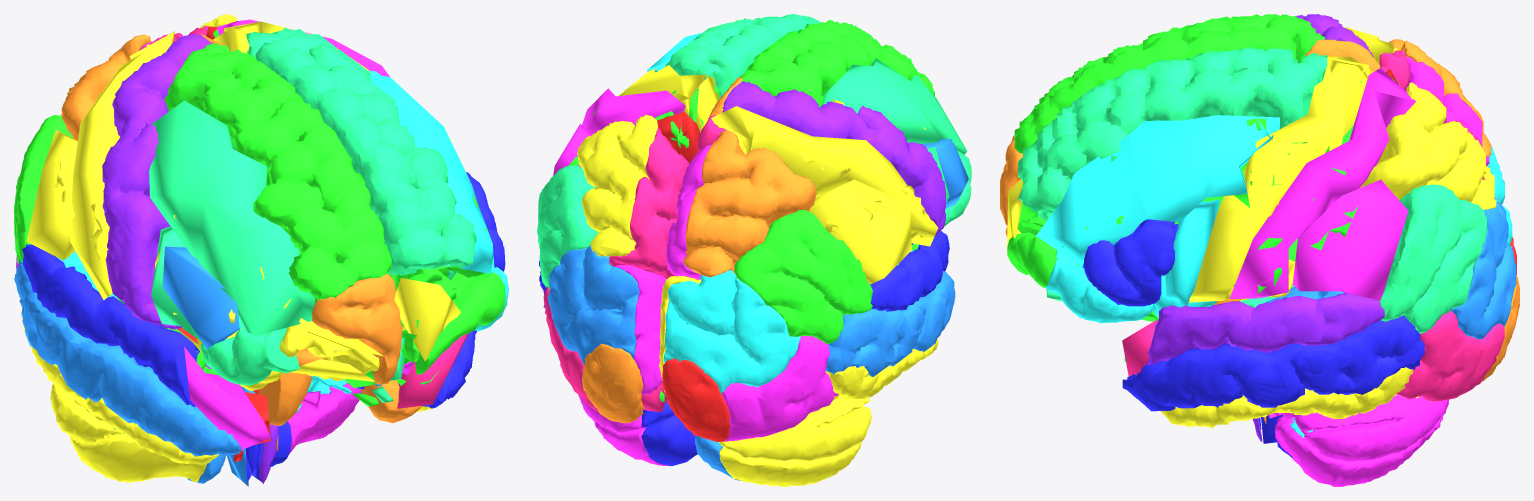
Rendered from gehirn-male-lod.glb.
The picture shows the model from 3 angles, left to right: view 1: azimuth 30°, elevation 25°; view 2: azimuth 150°, elevation 25°; view 3: azimuth 270°, elevation 25°; orthographic projection. The views are drawn at different scales.
Parts seen in each view (by area): view 1: 0:113:Allen_superior_frontal_gyrus_L, 0:261:Allen_superior_frontal_gyrus_R, 0:70:Allen_middle_frontal_gyrus_L, 0:98:Allen_precentral_gyrus_L, 0:71:Allen_middle_temporal_gyrus_L, 0:115:Allen_superior_temporal_gyrus_L, 0:92:Allen_postcentral_gyrus_L, 0:55:Allen_lateral_hemisphere_of_cerebellum_L, 0:106:Allen_rostral_gyrus_L, 0:214:Allen_middle_frontal_gyrus_R, 0:47:Allen_inferior_frontal_gyrus_triangular_part_L, 0:116:Allen_supramarginal_gyrus_L (+22 smaller); view 2: 0:118:Allen_supraparietal_lobule_L, 0:2:Allen_angular_gyrus_L, 0:114:Allen_superior_occipital_gyrus_L, 0:98:Allen_precentral_gyrus_L, 0:55:Allen_lateral_hemisphere_of_cerebellum_L, 0:92:Allen_postcentral_gyrus_L, 0:113:Allen_superior_frontal_gyrus_L, 0:262:Allen_superior_occipital_gyrus_R, 0:266:Allen_supraparietal_lobule_R, 0:71:Allen_middle_temporal_gyrus_L, 0:49:Allen_inferior_occipital_gyrus_L, 0:116:Allen_supramarginal_gyrus_L (+26 smaller); view 3: 0:261:Allen_superior_frontal_gyrus_R, 0:214:Allen_middle_frontal_gyrus_R, 0:215:Allen_middle_temporal_gyrus_R, 0:242:Allen_precentral_gyrus_R, 0:236:Allen_postcentral_gyrus_R, 0:138:Allen_angular_gyrus_R, 0:263:Allen_superior_temporal_gyrus_R, 0:195:Allen_lateral_hemisphere_of_cerebellum_R, 0:113:Allen_superior_frontal_gyrus_L, 0:264:Allen_supramarginal_gyrus_R, 0:266:Allen_supraparietal_lobule_R, 0:187:Allen_inferior_frontal_gyrus_triangular_part_R (+19 smaller).
Boxes of the visible parts, <box> form: 0:113:Allen_superior_frontal_gyrus_L: <box>164,43,391,305</box>; 0:261:Allen_superior_frontal_gyrus_R: <box>246,27,476,280</box>; 0:70:Allen_middle_frontal_gyrus_L: <box>149,100,315,335</box>; 0:98:Allen_precentral_gyrus_L: <box>102,34,212,329</box>; 0:71:Allen_middle_temporal_gyrus_L: <box>14,260,245,457</box>; 0:115:Allen_superior_temporal_gyrus_L: <box>22,244,199,406</box>; 0:92:Allen_postcentral_gyrus_L: <box>70,31,174,299</box>; 0:55:Allen_lateral_hemisphere_of_cerebellum_L: <box>50,383,206,482</box>; 0:106:Allen_rostral_gyrus_L: <box>312,273,402,384</box>; 0:214:Allen_middle_frontal_gyrus_R: <box>368,70,494,273</box>; 0:47:Allen_inferior_frontal_gyrus_triangular_part_L: <box>162,246,240,348</box>; 0:116:Allen_supramarginal_gyrus_L: <box>26,130,77,260</box>; 0:118:Allen_supraparietal_lobule_L: <box>683,130,816,277</box>; 0:2:Allen_angular_gyrus_L: <box>734,210,872,344</box>; 0:114:Allen_superior_occipital_gyrus_L: <box>663,270,800,394</box>; 0:98:Allen_precentral_gyrus_L: <box>722,81,945,235</box>; 0:55:Allen_lateral_hemisphere_of_cerebellum_L: <box>719,394,871,486</box>; 0:92:Allen_postcentral_gyrus_L: <box>711,106,938,246</box>; 0:113:Allen_superior_frontal_gyrus_L: <box>740,20,934,107</box>; 0:262:Allen_superior_occipital_gyrus_R: <box>547,245,639,364</box>; 0:266:Allen_supraparietal_lobule_R: <box>577,114,657,256</box>; 0:71:Allen_middle_temporal_gyrus_L: <box>825,271,955,376</box>; 0:49:Allen_inferior_occipital_gyrus_L: <box>722,336,838,441</box>; 0:116:Allen_supramarginal_gyrus_L: <box>809,179,911,284</box>; 0:261:Allen_superior_frontal_gyrus_R: <box>1018,46,1327,221</box>; 0:214:Allen_middle_frontal_gyrus_R: <box>1036,115,1279,266</box>; 0:215:Allen_middle_temporal_gyrus_R: <box>1122,315,1424,411</box>; 0:242:Allen_precentral_gyrus_R: <box>1189,57,1370,302</box>; 0:236:Allen_postcentral_gyrus_R: <box>1229,68,1415,298</box>; 0:138:Allen_angular_gyrus_R: <box>1379,184,1486,333</box>; 0:263:Allen_superior_temporal_gyrus_R: <box>1145,292,1384,365</box>; 0:195:Allen_lateral_hemisphere_of_cerebellum_R: <box>1269,394,1448,486</box>; 0:113:Allen_superior_frontal_gyrus_L: <box>1014,14,1325,153</box>; 0:264:Allen_supramarginal_gyrus_R: <box>1292,179,1408,300</box>; 0:266:Allen_supraparietal_lobule_R: <box>1360,82,1496,209</box>; 0:187:Allen_inferior_frontal_gyrus_triangular_part_R: <box>1082,219,1178,306</box>.
Size of the model in its own units: 0.1365 by 0.1459 by 0.167.
